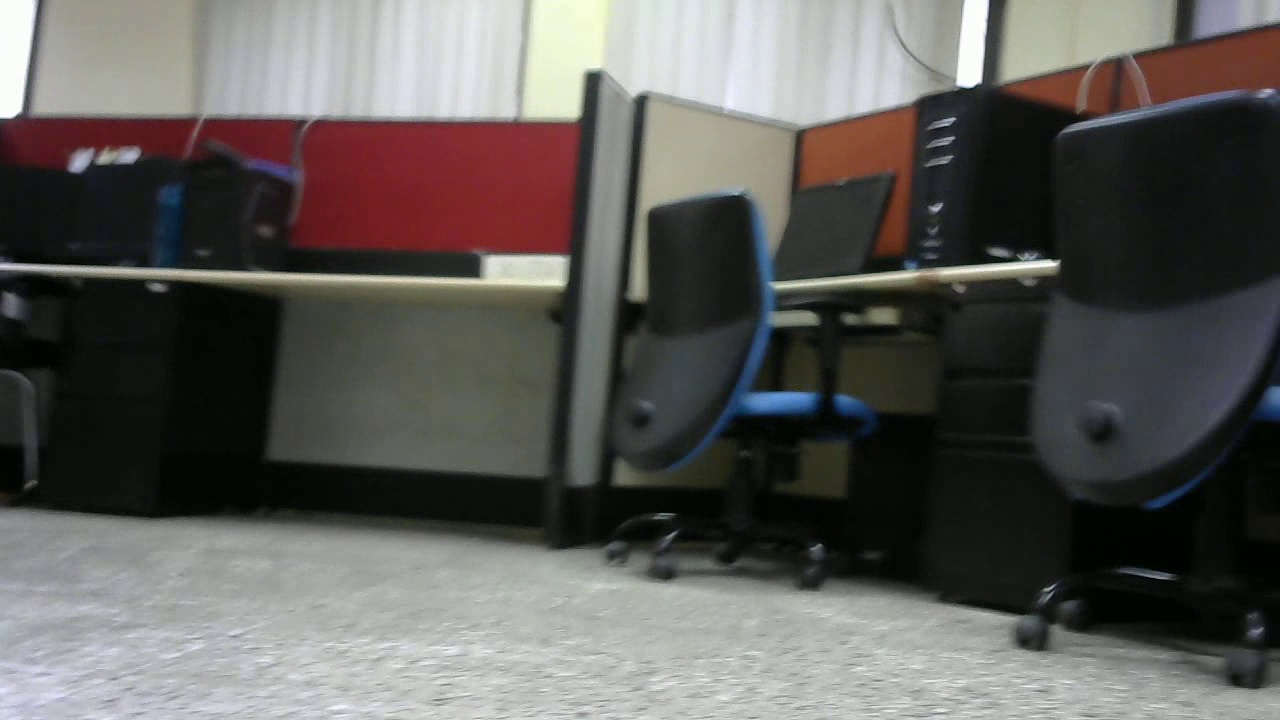chair: (1019, 82, 1280, 717), (591, 190, 884, 589)
